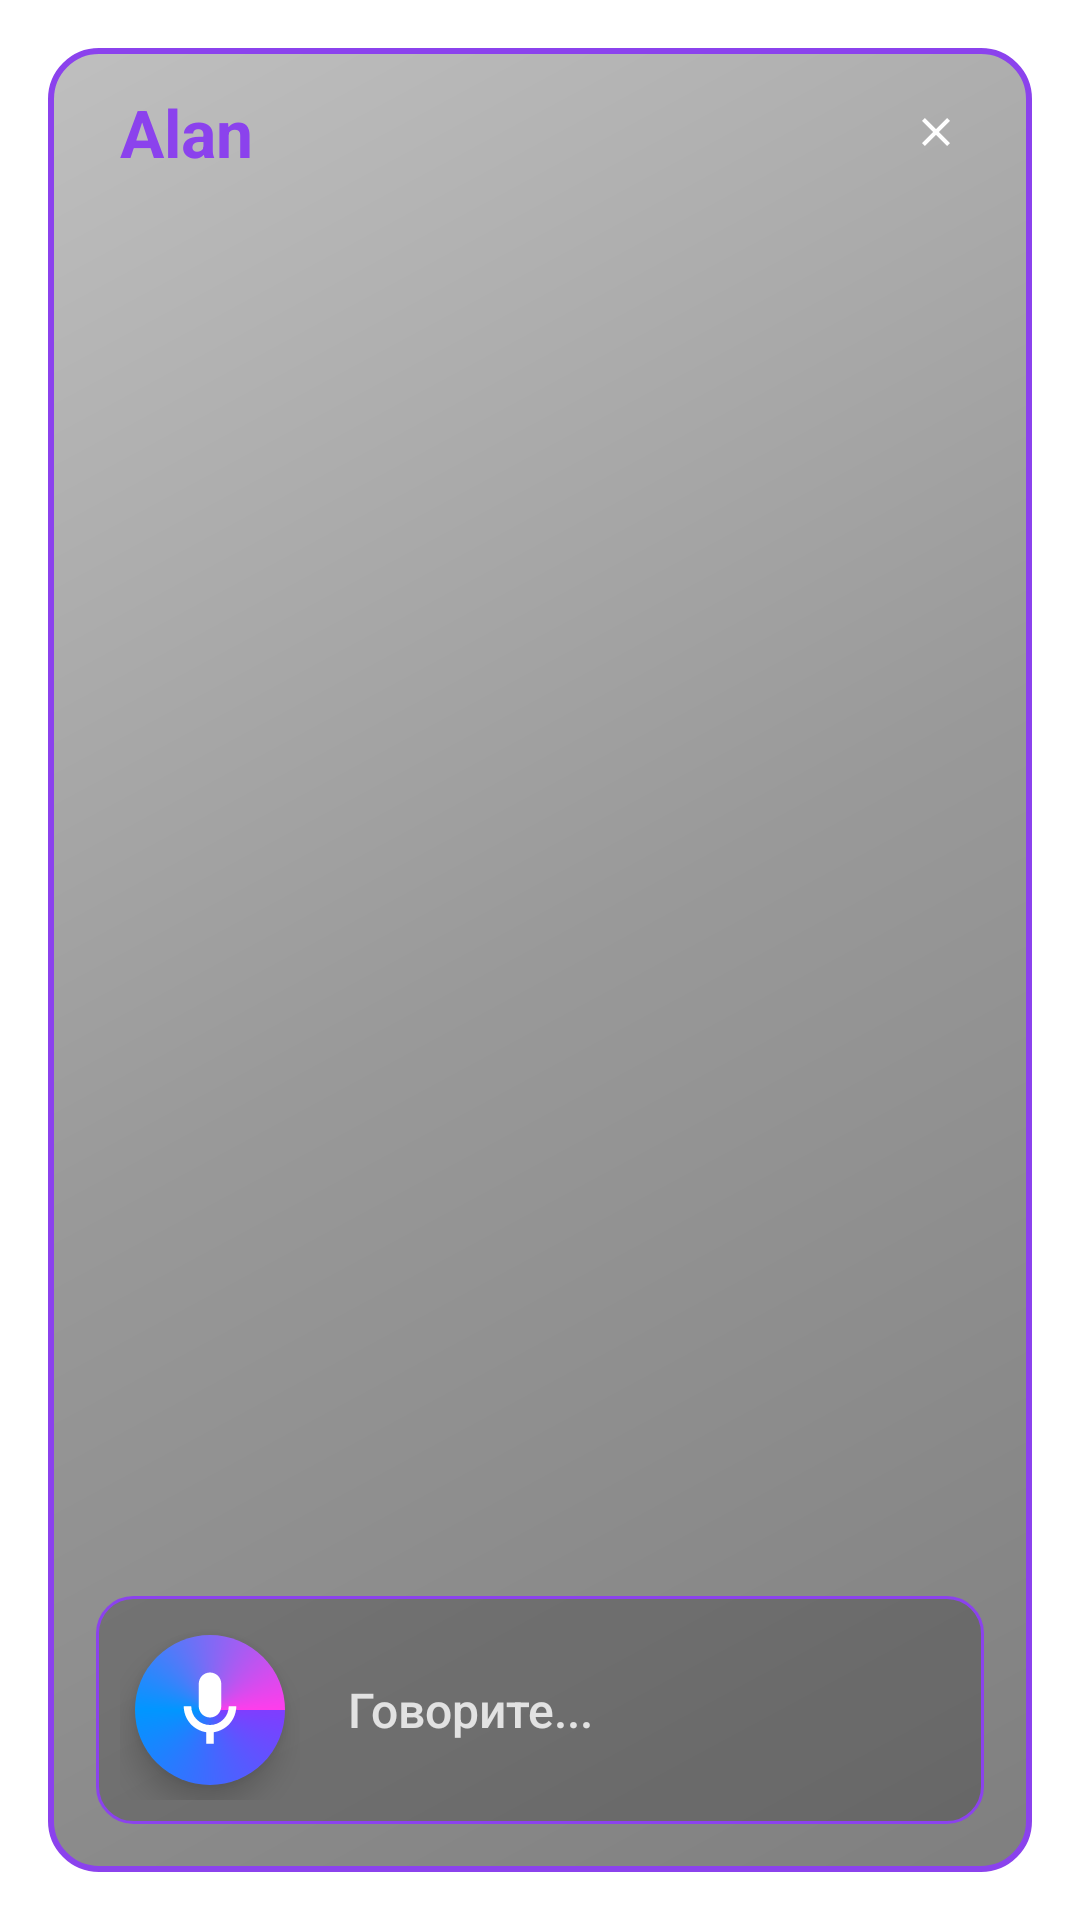

Icons on this 1080 × 1920 Android screen, each with its box as [left=x1, top=y1, right=x2, bottom=y2]:
close: [left=922, top=118, right=950, bottom=146]
mic: [left=135, top=1635, right=285, bottom=1785]
